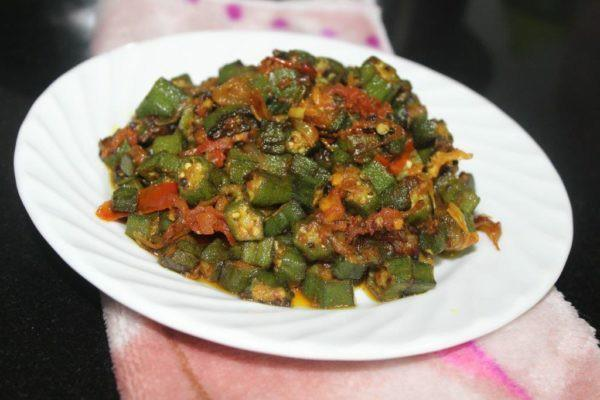BhindiMasala: (95, 49, 501, 310)
